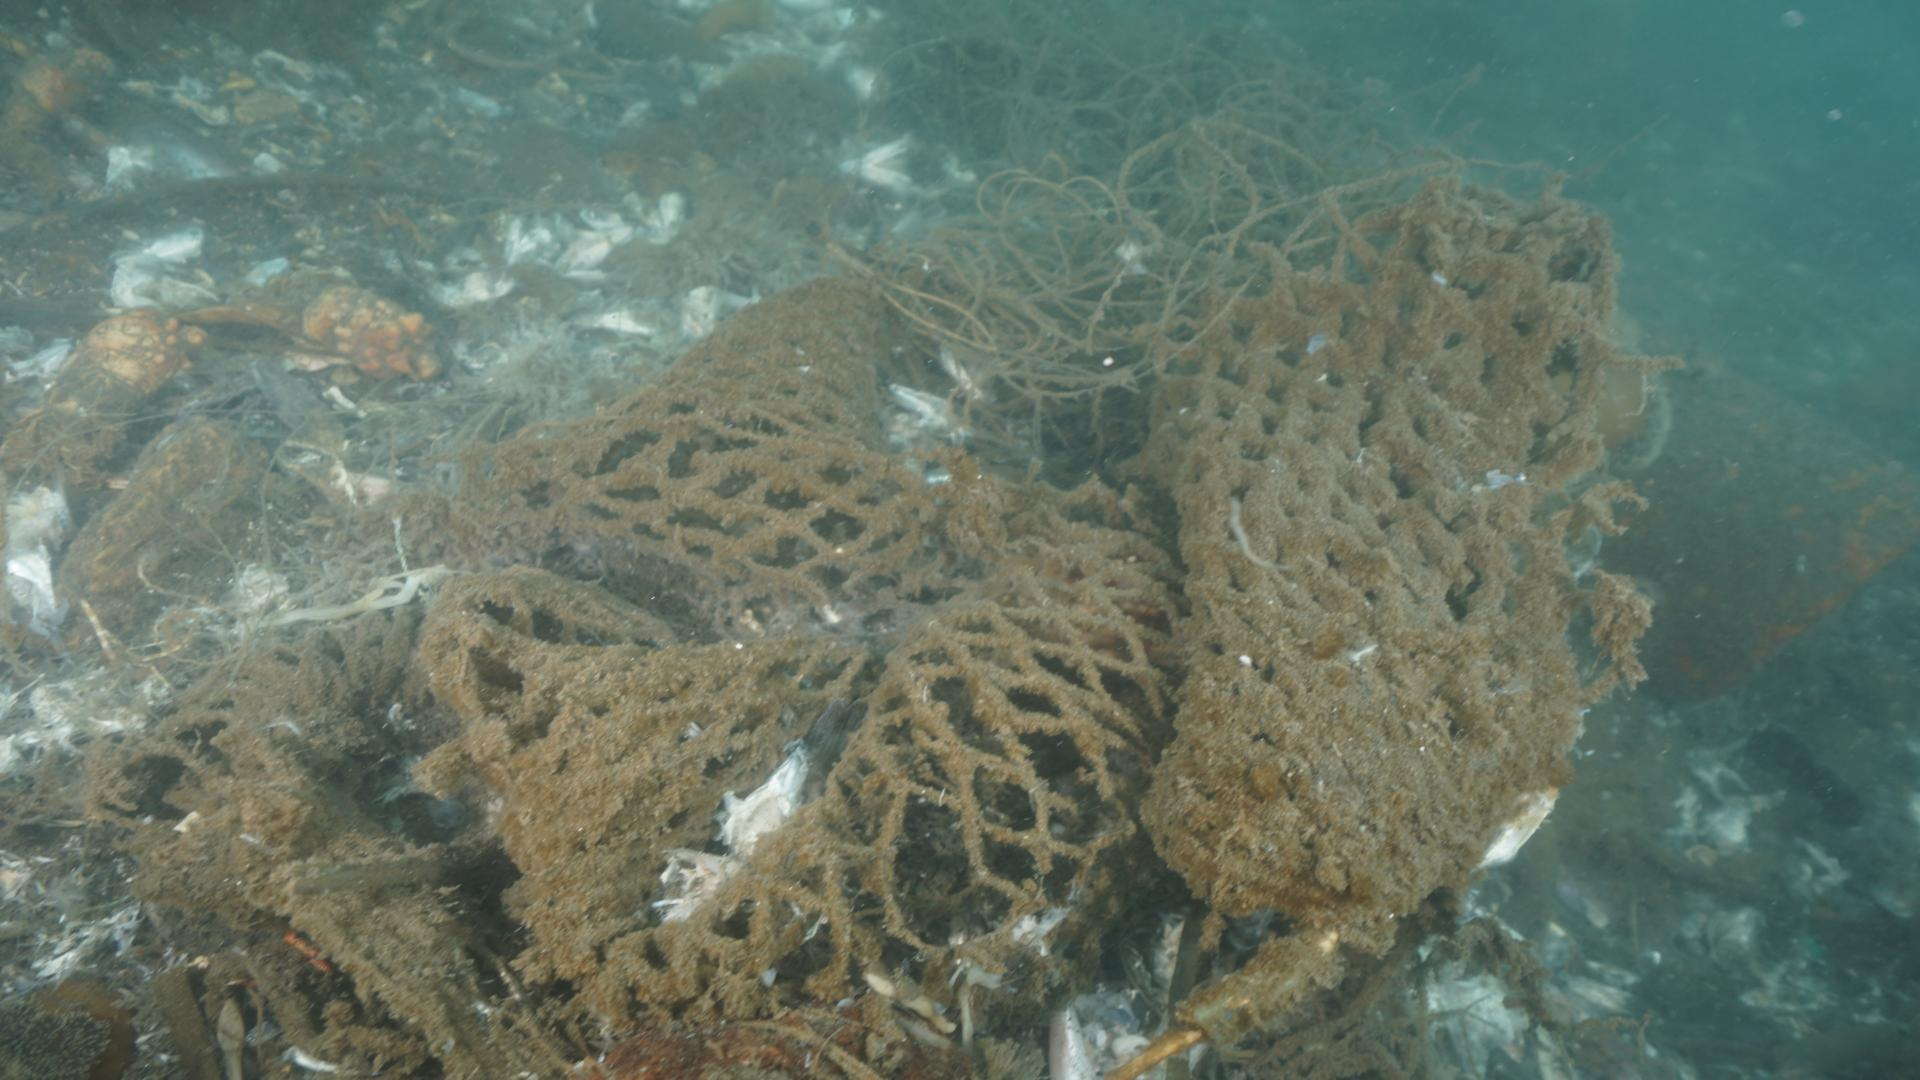fish net: (419, 173, 1644, 1080)
